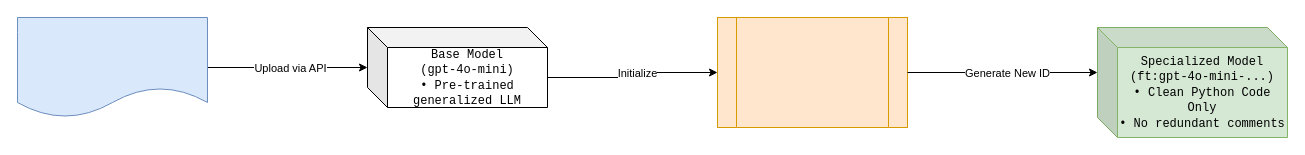
This 1305x155 diagram has some shape labels left out. The shapes that lost their labels are listed below. From the top down, each one's centre as x and y in pixels, then its label:
point 112,67: Training Data (fine_tuning.jsonl) • 15 high-quality examples
point 812,72: OpenAI Fine-Tuning Engine [ Adjusting Weights & Parameters ]
